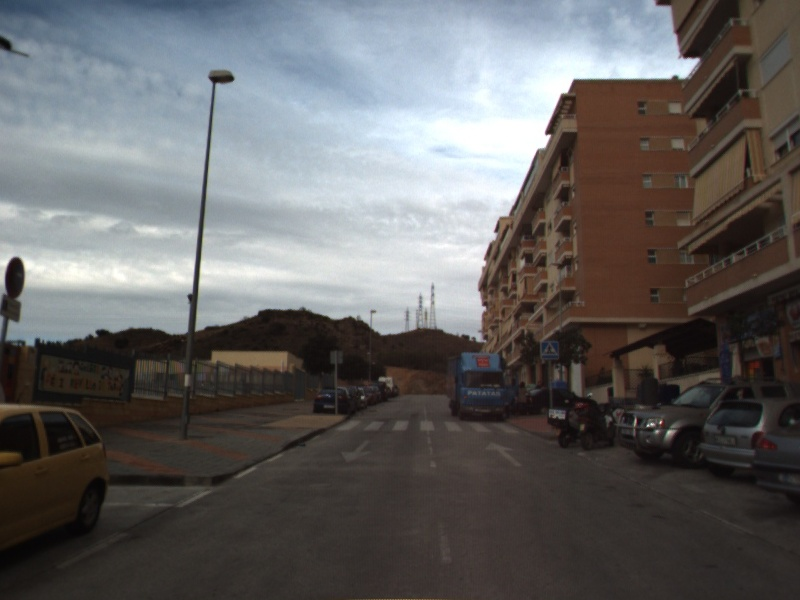STRAIGHT: (483, 440, 524, 468)
